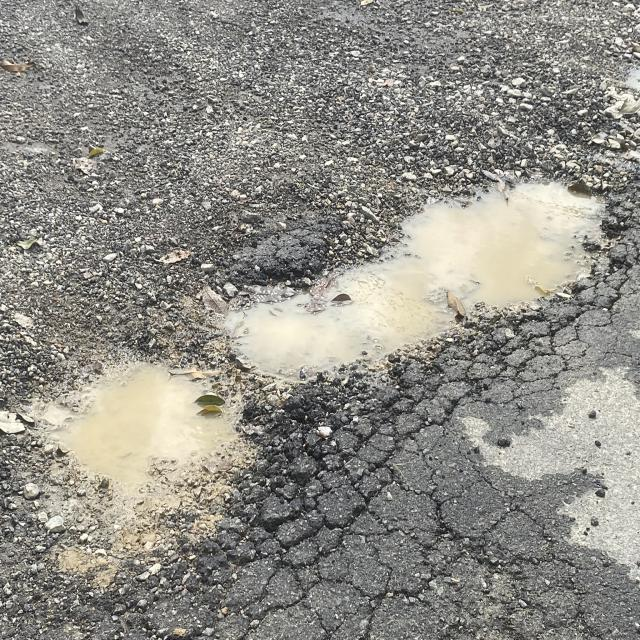Pothole: (204, 134, 635, 395), (20, 339, 20, 340)
